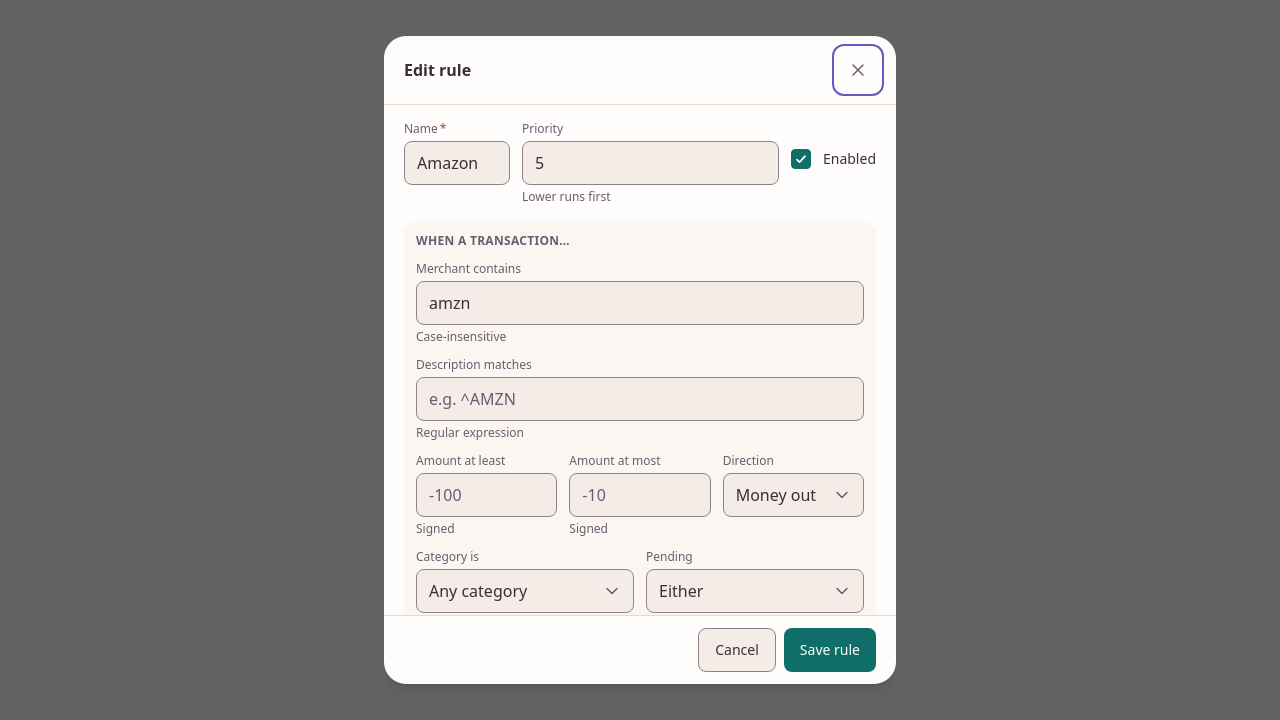
Test: <RuleBuilder /> › surfaces a save failure and stays open
Click the button with test id "rule-save": (830, 650) [784, 628, 876, 672]
(page scrolled)
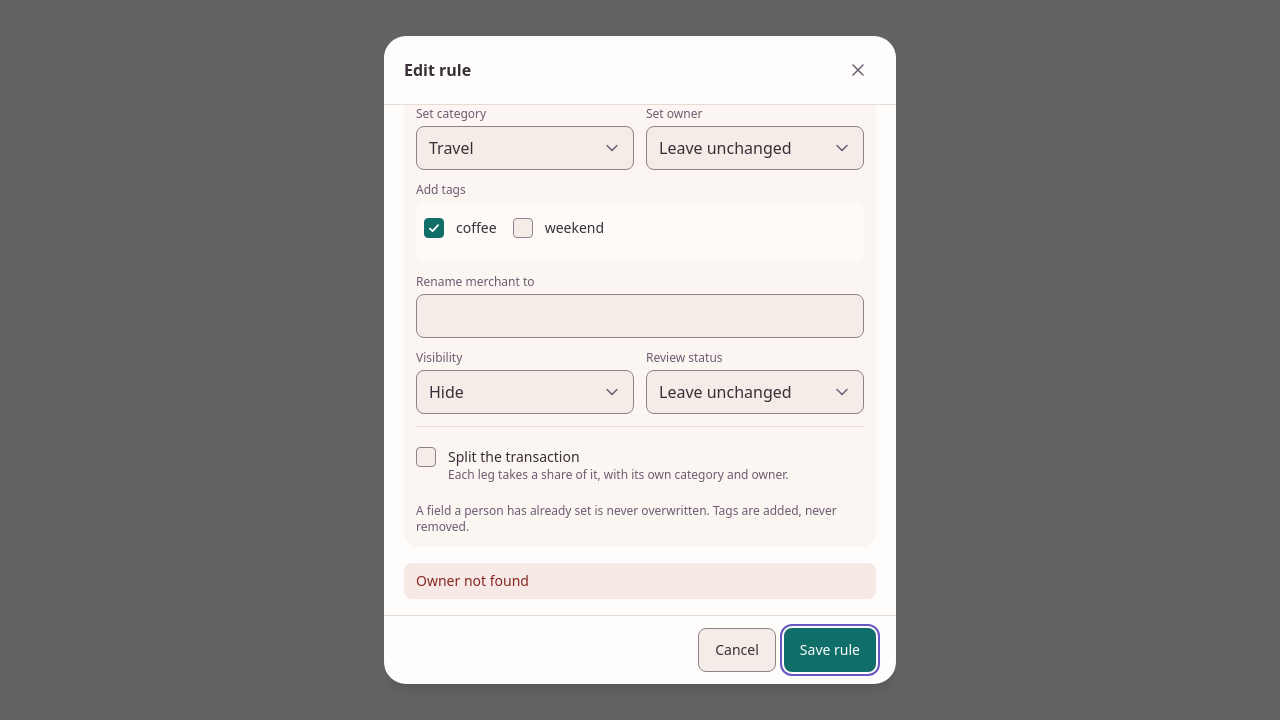
Check: the message with test id "rule-error" reads "Owner not found", box [416, 571, 529, 590]
